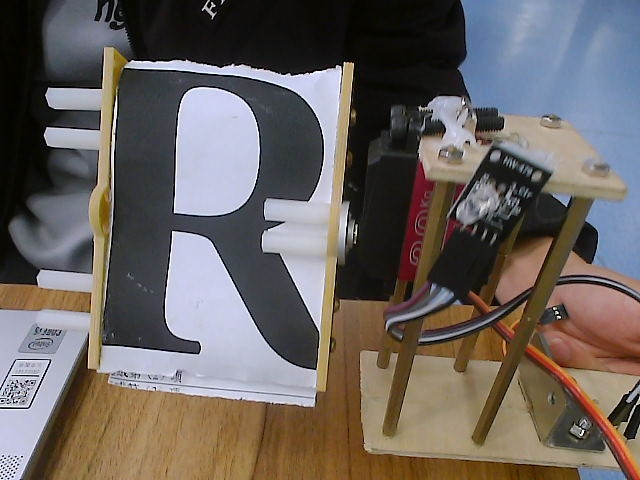R: (25, 43, 386, 436)
